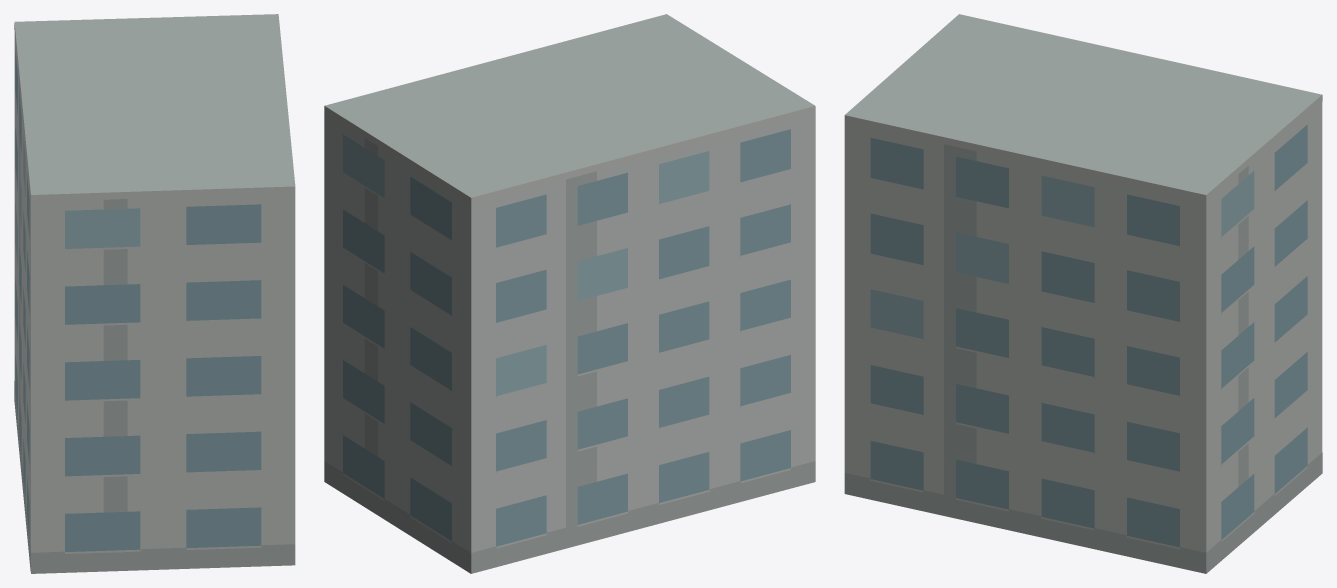
Rendered from survey-upis-32889611.glb.
The picture shows the model from 3 angles, left to right: view 1: azimuth 30°, elevation 25°; view 2: azimuth 150°, elevation 25°; view 3: azimuth 270°, elevation 25°; orthographic projection.
Visible parts, largest first — view 1: survey-upis-32889611.tmp; view 2: survey-upis-32889611.tmp; view 3: survey-upis-32889611.tmp.
Boxes of the visible parts, left/top/right/bottom form: survey-upis-32889611.tmp: left=14, top=14, right=295, bottom=573; survey-upis-32889611.tmp: left=324, top=14, right=815, bottom=573; survey-upis-32889611.tmp: left=844, top=14, right=1322, bottom=573.
Bounding box in the file's own units: 13.55 × 13.2 × 15.1.
